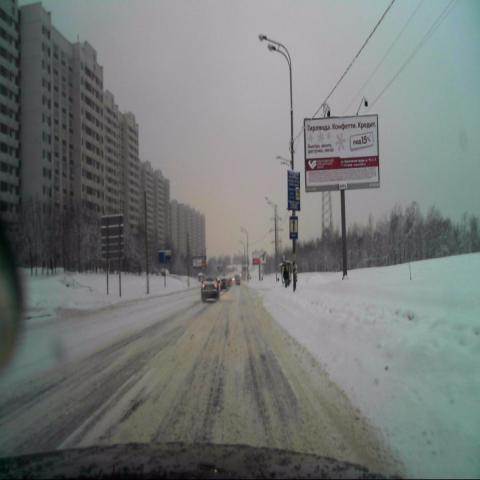7_4: (289, 215, 298, 240)
